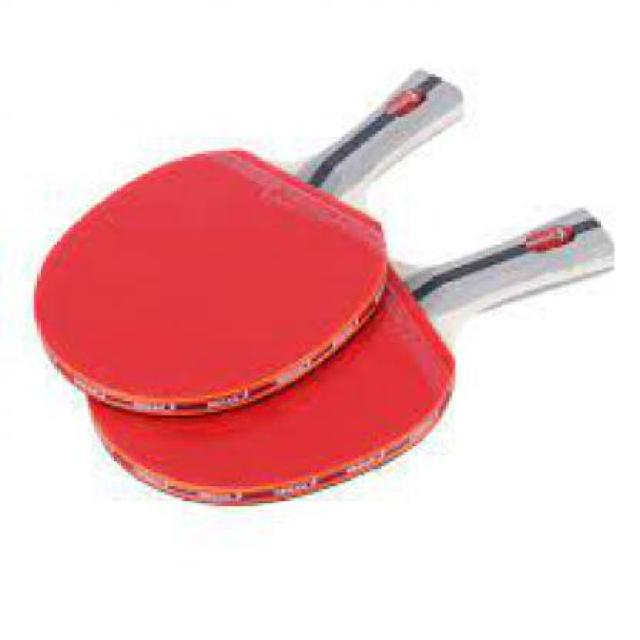table_tennis_racket: (85, 246, 460, 548), (25, 146, 384, 414)
